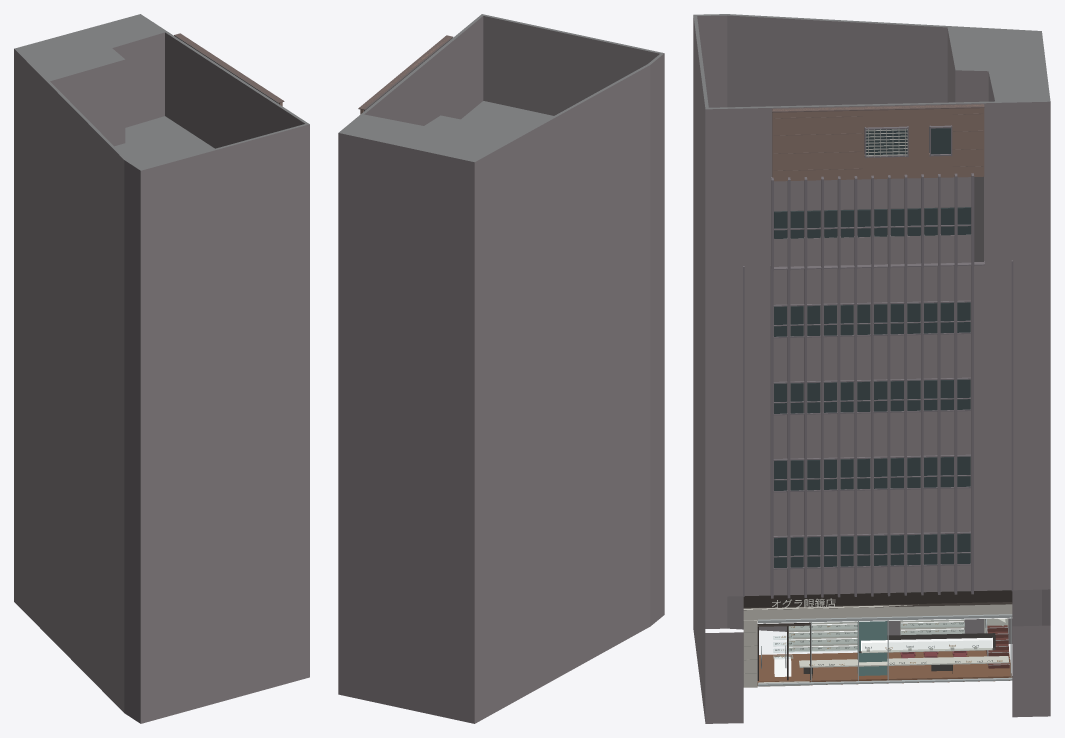
The model's file is d11-shu896.glb.
The picture shows the model from 3 angles, left to right: view 1: azimuth 30°, elevation 25°; view 2: azimuth 150°, elevation 25°; view 3: azimuth 270°, elevation 25°; orthographic projection. The views are drawn at different scales.
Visible parts, largest first — view 1: d24_exact_d11-shu896_1, SOURCE_ENVELOPE_AND_REMOVABLE_INFERRED_MIDDLE__SOURCE_ENVELO, d24_exact_d11-shu896_0; view 2: d24_exact_d11-shu896_1, SOURCE_ENVELOPE_AND_REMOVABLE_INFERRED_MIDDLE__SOURCE_ENVELO, d24_exact_d11-shu896_0; view 3: d24_exact_d11-shu896_1, SOURCE_ENVELOPE_AND_REMOVABLE_INFERRED_MIDDLE__INFERRED_MIDD (×2), d24_exact_d11-shu896_0, PRESERVED_LOWER_MATERIAL_BATCH, SOURCE_ENVELOPE_AND_REMOVABLE_INFERRED_MIDDLE__SOURCE_ENVELO, PRESERVED_UPPER_HIGHCUT.
Part boxes in pixels (bbox=[...]): d24_exact_d11-shu896_1: bbox=[14, 32, 309, 723]; SOURCE_ENVELOPE_AND_REMOVABLE_INFERRED_MIDDLE__SOURCE_ENVELO: bbox=[14, 14, 309, 170]; d24_exact_d11-shu896_0: bbox=[174, 33, 284, 106]; d24_exact_d11-shu896_1: bbox=[338, 16, 664, 723]; SOURCE_ENVELOPE_AND_REMOVABLE_INFERRED_MIDDLE__SOURCE_ENVELO: bbox=[338, 14, 664, 162]; d24_exact_d11-shu896_0: bbox=[358, 35, 453, 114]; d24_exact_d11-shu896_1: bbox=[693, 15, 1050, 723]; SOURCE_ENVELOPE_AND_REMOVABLE_INFERRED_MIDDLE__INFERRED_MIDD (×2): bbox=[743, 260, 1013, 598]; d24_exact_d11-shu896_0: bbox=[771, 103, 984, 271]; PRESERVED_LOWER_MATERIAL_BATCH: bbox=[743, 590, 1012, 687]; SOURCE_ENVELOPE_AND_REMOVABLE_INFERRED_MIDDLE__SOURCE_ENVELO: bbox=[693, 14, 1050, 109]; PRESERVED_UPPER_HIGHCUT: bbox=[774, 128, 970, 238].
Size of the model in its own units: 9.99 by 28.75 by 15.14.
